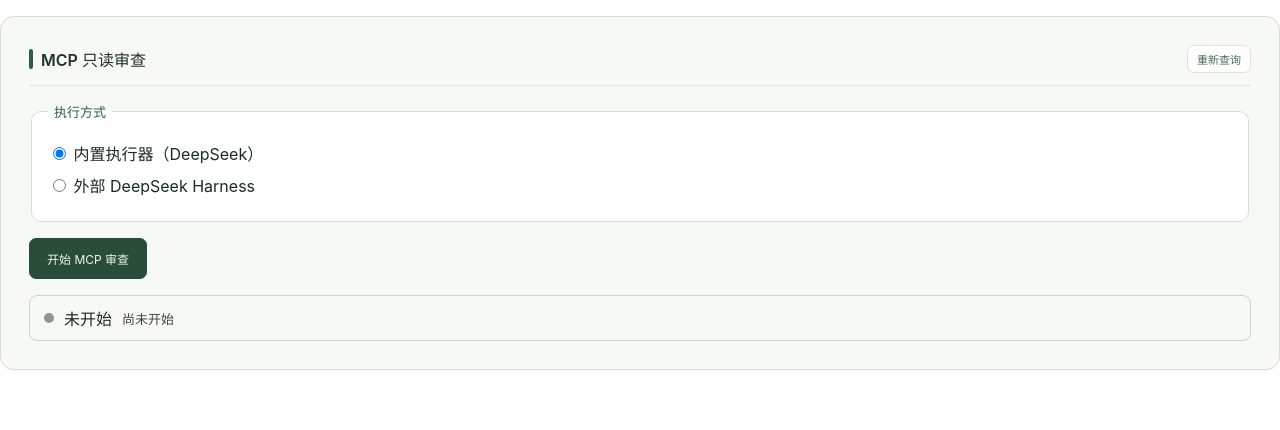
Test case: MCP 审查状态 › 选择 DeepSeek Harness 后发送显式类型并展示服务端确认的进度
Click the radio button labelled "外部 DeepSeek Harness".
click(60, 186)  # box [53,179,66,192]
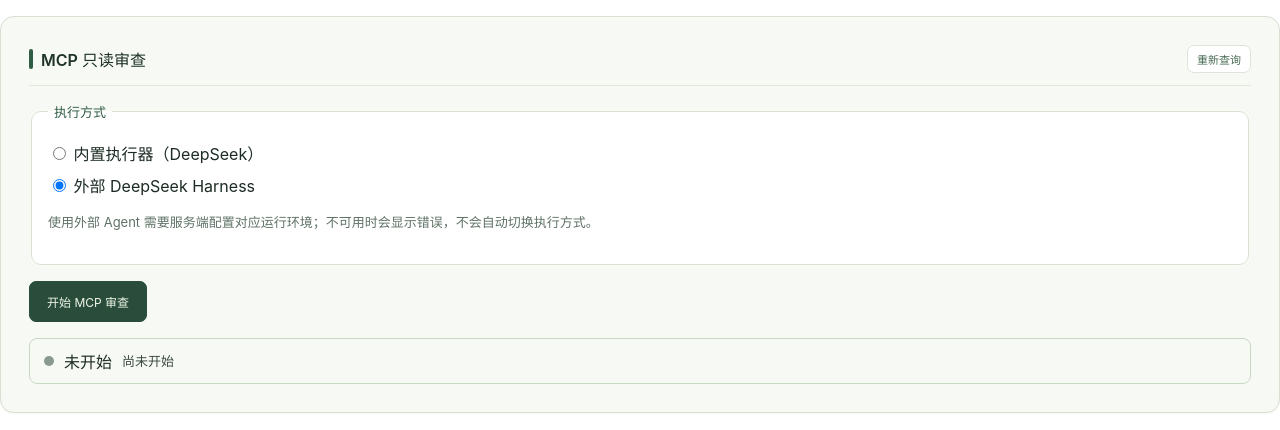
Click the button "开始 MCP 审查".
click(88, 301)  # box [29,281,147,322]
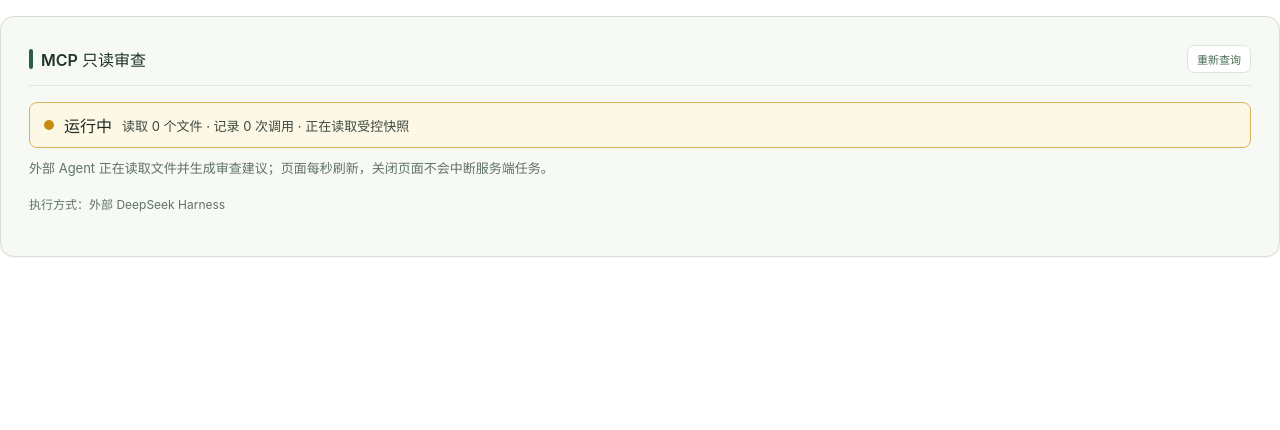
Check: the text "执行方式：外部 DeepSeek Harness" is shown, box [29,197,225,212]
Check: the text "正在读取受控快照" is shown, box [122,118,409,134]
